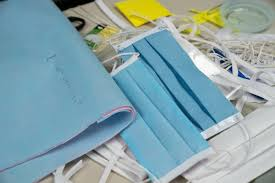mask: (108, 57, 201, 183)
